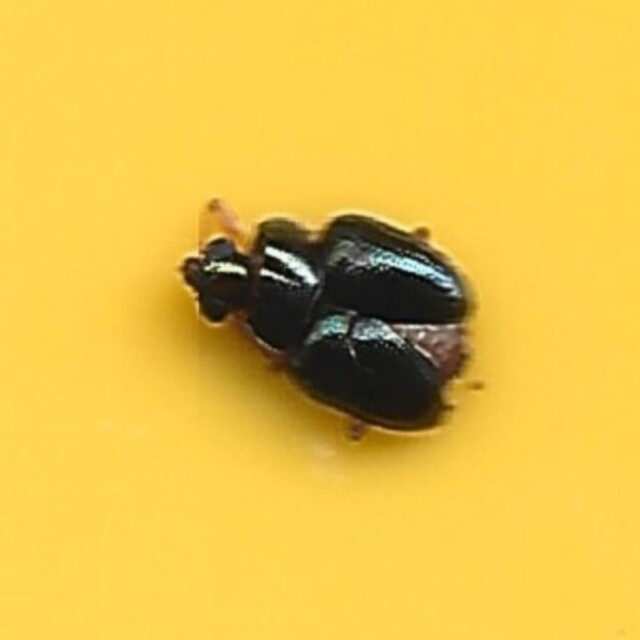Coleoptera: (167, 189, 473, 451)
